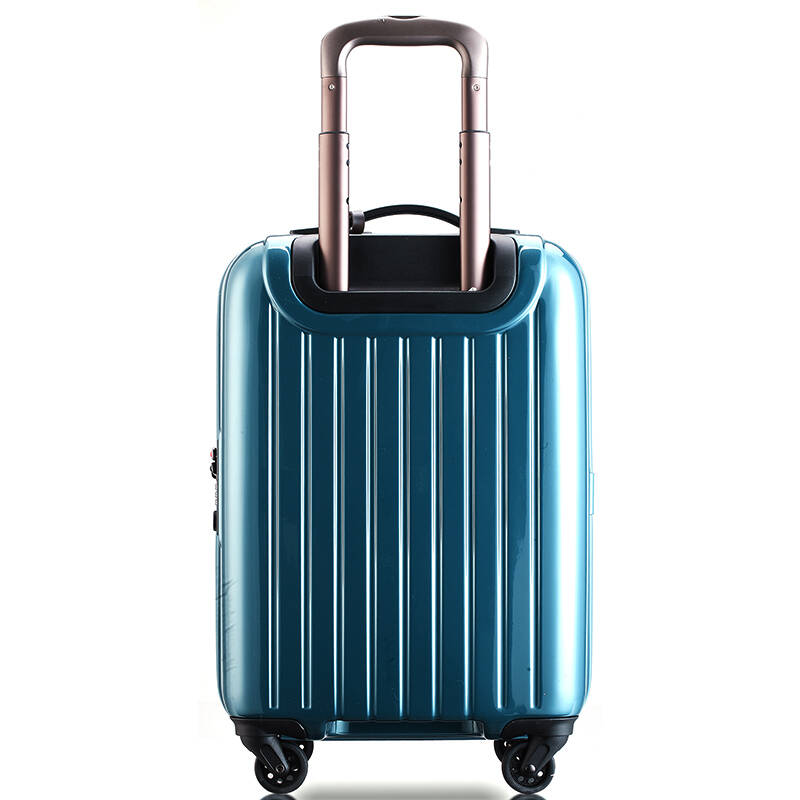luggage: (210, 15, 595, 795)
